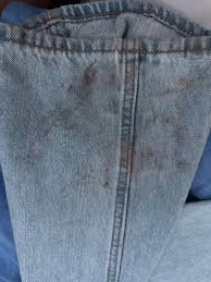earth: (115, 144, 162, 175), (80, 68, 123, 93), (178, 77, 193, 90)
